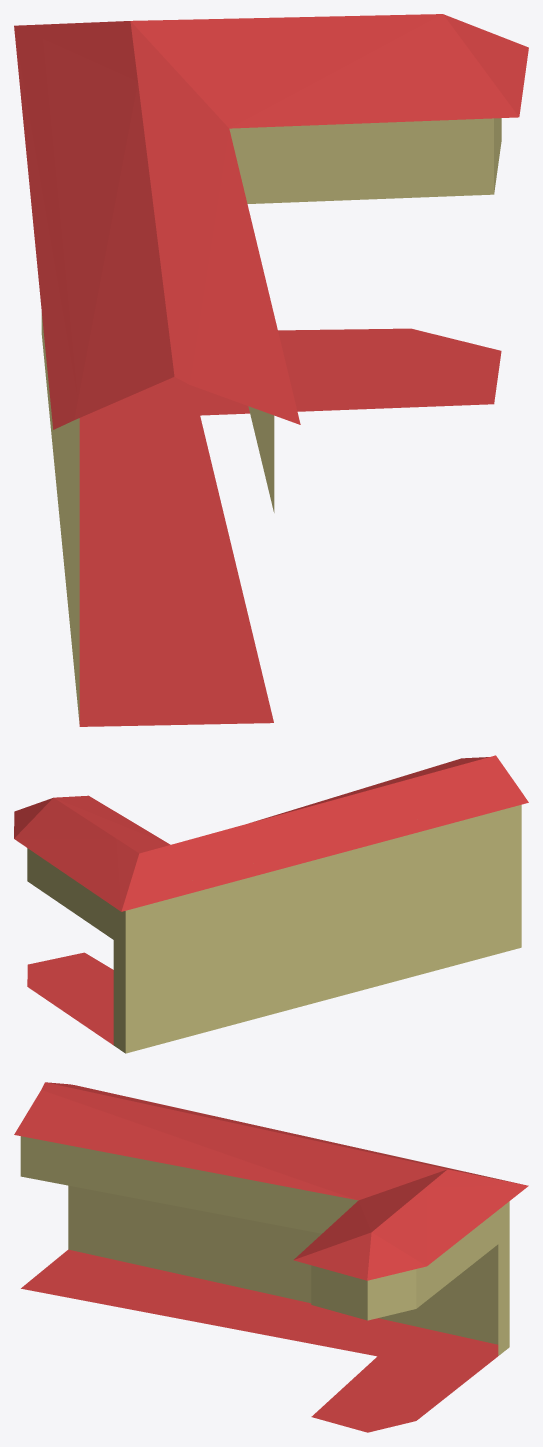
3 views of the same model, one above another, from view 1: azimuth 30°, elevation 25°; view 2: azimuth 150°, elevation 25°; view 3: azimuth 270°, elevation 25° (orthographic). The views are drawn at different scales.
Parts seen in each view (by area): view 1: group_3, group_6, group_5, group_4; view 2: group_5, group_3, group_6, group_4; view 3: group_5, group_3, group_6, group_4.
Part boxes in pixels (x1,y1,x2,y2): group_3: (14,14,528,429); group_6: (79,328,501,726); group_5: (41,118,501,723); group_4: (14,24,298,428); group_5: (27,804,521,1053); group_3: (14,755,528,911); group_6: (27,952,113,1045); group_4: (121,758,527,911); group_5: (20,1136,509,1355); group_3: (14,1082,528,1280); group_6: (21,1249,498,1432); group_4: (14,1114,522,1184).
Bounding box in the file's own units: 24.41 × 27.16 × 10.84.
